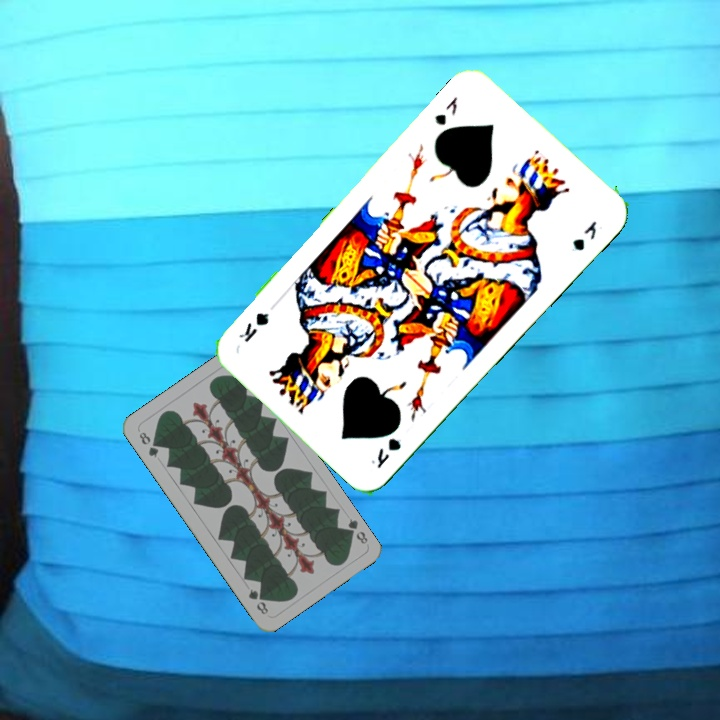G8: (341, 514, 370, 547), (135, 428, 161, 460)
GK: (366, 434, 404, 471), (430, 92, 460, 128)
